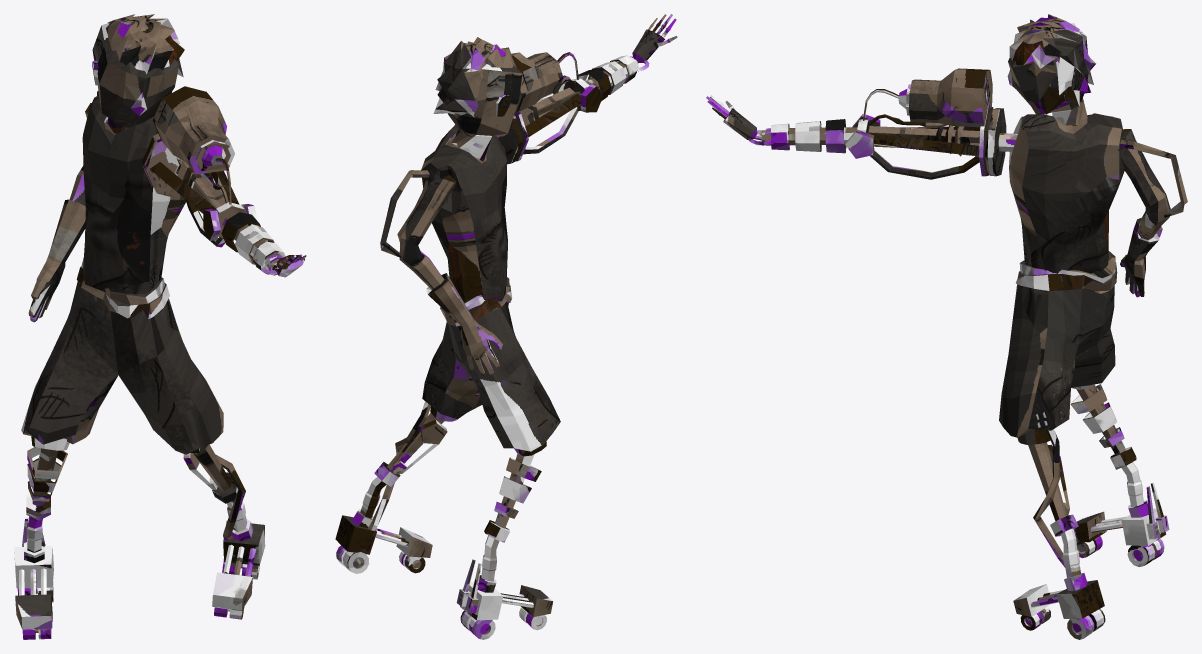
Rendered from CyborgFINALAnimation_000022.obj.
3 views of the same model, side by side, from view 1: azimuth 30°, elevation 25°; view 2: azimuth 150°, elevation 25°; view 3: azimuth 270°, elevation 25° (orthographic). The views are drawn at different scales.
Visible parts, largest first — view 1: CyborgMesh_Cube.002; view 2: CyborgMesh_Cube.002; view 3: CyborgMesh_Cube.002.
Boxes of the visible parts, x1,y1,x2,y2 form: CyborgMesh_Cube.002: (14,14,306,639); CyborgMesh_Cube.002: (335,14,677,639); CyborgMesh_Cube.002: (706,14,1187,639).
Bounding box in the file's own units: 3.89 × 9.42 × 7.22.
